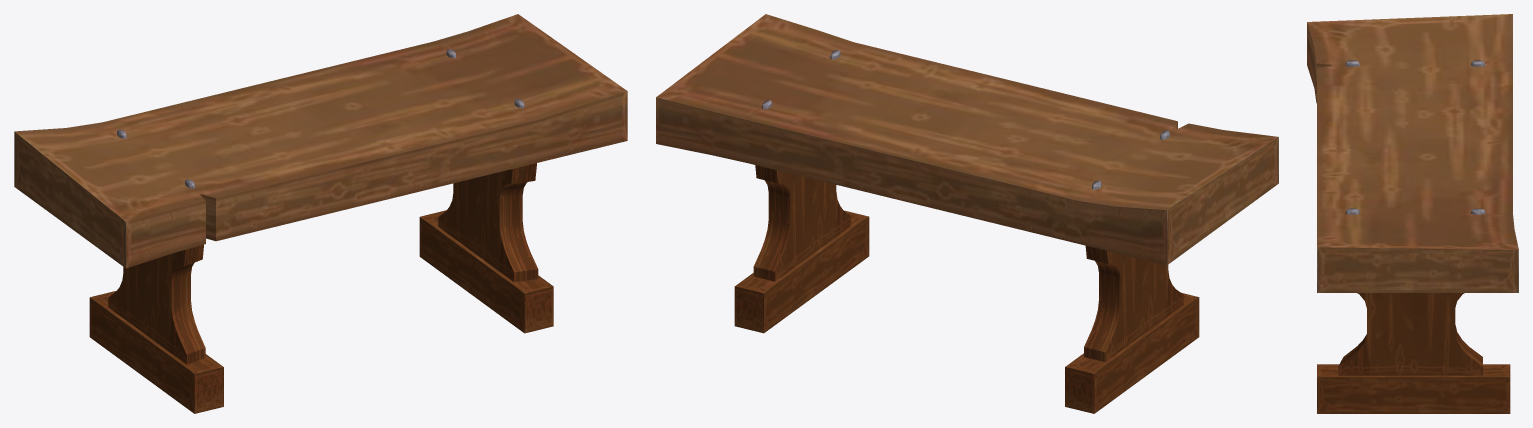
The model's file is Cruce_Bench.glb.
The picture shows the model from 3 angles, left to right: view 1: azimuth 30°, elevation 25°; view 2: azimuth 150°, elevation 25°; view 3: azimuth 270°, elevation 25°; orthographic projection. The views are drawn at different scales.
Parts seen in each view (by area): view 1: Cruce_Bench; view 2: Cruce_Bench; view 3: Cruce_Bench.
Boxes of the visible parts, left/top/right/bottom form: Cruce_Bench: left=14, top=14, right=627, bottom=413; Cruce_Bench: left=656, top=14, right=1278, bottom=413; Cruce_Bench: left=1307, top=14, right=1518, bottom=413.
Size of the model in its own units: 1.12 by 0.47 by 0.44.
2 materials, 2 textured.
